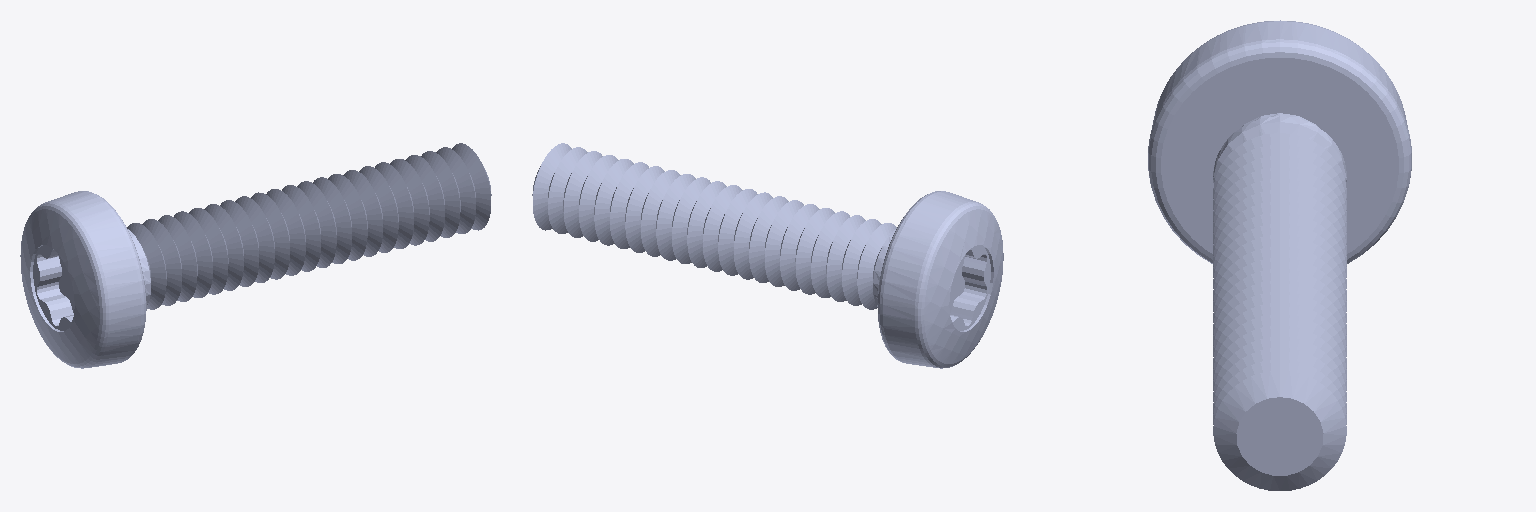
URDF robot description (star_bolt):
<?xml version="1.0" encoding="utf-8"?>
<!-- This URDF was automatically created by SolidWorks to URDF Exporter! Originally created by [author] ([email redacted]) 
     Commit Version: 1.6.0-4-g7f85cfe  Build Version: 1.6.7995.38578
     For more information, please see http://wiki.ros.org/sw_urdf_exporter -->
<robot
  name="star_bolt">
  <link
    name="star_bolt_base_link">
    <inertial>
      <origin
        xyz="5.85469173142172E-18 -6.93889390390723E-18 0"
        rpy="0 0 0" />
      <mass
        value="0.00437955579790457" />
      <inertia
        ixx="1.08965954846578E-07"
        ixy="9.66322202955873E-13"
        ixz="-4.50467131314724E-13"
        iyy="5.82988403941784E-07"
        iyz="-1.197247520862E-12"
        izz="5.82975245532298E-07" />
    </inertial>
    <visual>
      <origin
        xyz="0 0 0"
        rpy="0 0 0" />
      <geometry>
        <mesh
          filename="package://star_bolt/meshes/star_bolt_base_link.dae" />
      </geometry>
      <material
        name="">
        <color
          rgba="0.792156862745098 0.819607843137255 0.933333333333333 1" />
      </material>
    </visual>
    <collision>
      <origin
        xyz="0 0 0"
        rpy="0 0 0" />
      <geometry>
        <mesh
          filename="package://star_bolt/meshes/star_bolt_base_link.dae" />
      </geometry>
    </collision>
  </link>
</robot>

--- Facts derived from the render (not from the file) ---
The picture shows the robot from 3 angles, left to right: view 1: azimuth 30°, elevation 25°; view 2: azimuth 150°, elevation 25°; view 3: azimuth 270°, elevation 25°; orthographic projection.
Model star_bolt with 1 links and 0 joints (none), rooted at star_bolt_base_link, posed all joints at 0.
Visible links, largest first — view 1: star_bolt_base_link; view 2: star_bolt_base_link; view 3: star_bolt_base_link.
Boxes of the visible links, box(x1,y1,x2,y2) form: star_bolt_base_link: box(20, 143, 491, 368); star_bolt_base_link: box(532, 143, 1003, 368); star_bolt_base_link: box(1148, 20, 1411, 490).
Size in the robot's own frame: 0.0549 by 0.0198 by 0.0198 metres.
1 mesh visuals loaded from 1 distinct referenced files (1 Collada DAE).